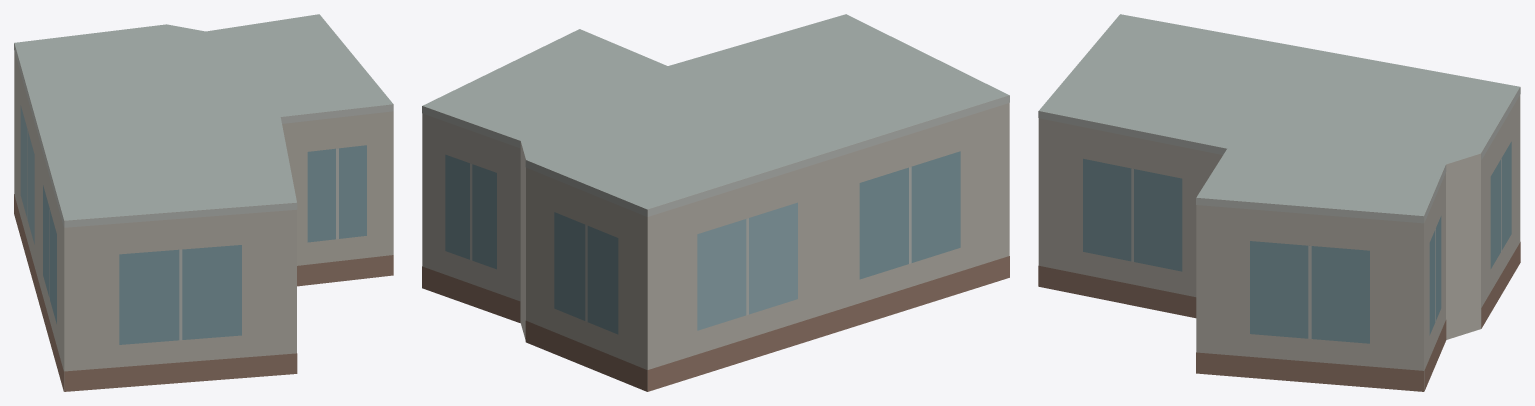
Rendered from survey-upis-32458329.glb.
3 renders of one model, left to right at view 1: azimuth 30°, elevation 25°; view 2: azimuth 150°, elevation 25°; view 3: azimuth 270°, elevation 25°, orthographic. The views are drawn at different scales.
Parts seen in each view (by area): view 1: survey-upis-32458329.tmp; view 2: survey-upis-32458329.tmp; view 3: survey-upis-32458329.tmp.
Part boxes in pixels (x1,y1,x2,y2): survey-upis-32458329.tmp: (14,14,393,391); survey-upis-32458329.tmp: (422,14,1009,391); survey-upis-32458329.tmp: (1038,14,1520,391).
Bounding box in the file's own units: 7.54 × 3.05 × 7.59.
